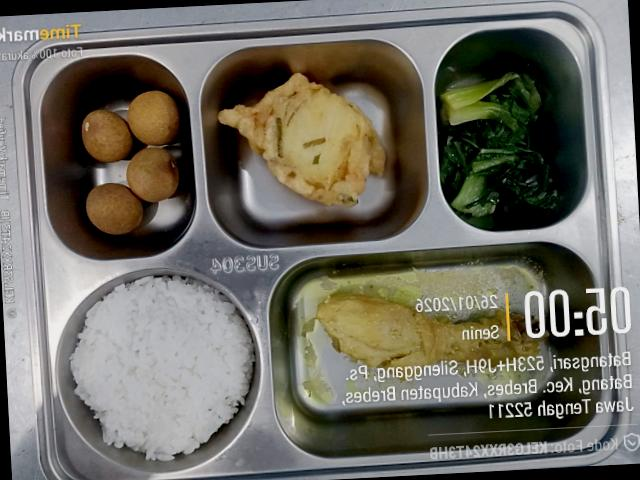ayam: (316, 294, 540, 377)
buah: (128, 90, 180, 146)
nasi: (71, 276, 255, 460)
sayur: (441, 72, 559, 217)
tahu: (219, 73, 386, 206)
